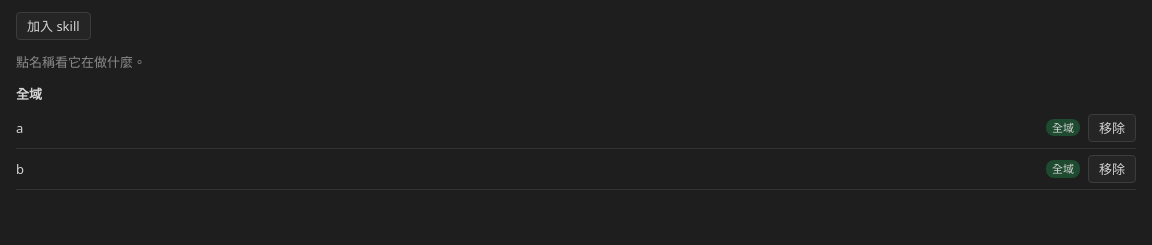
Test: SkillsView › opens only one description at a time
Click the button "a".
click(20, 128)  # box x1=16 y1=119 x2=1038 y2=137
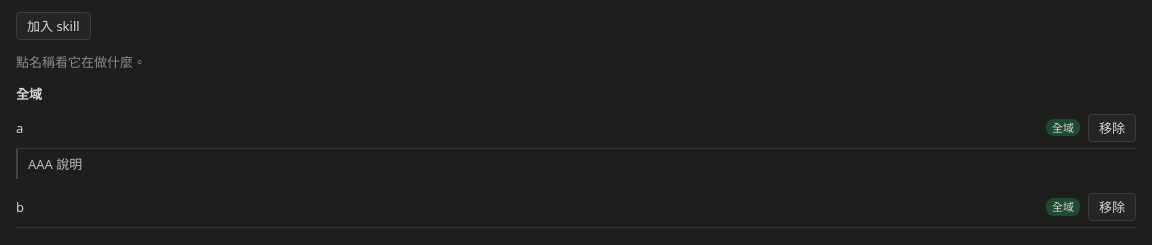
Result: the text "AAA 說明" is shown at x1=16 y1=149 x2=1136 y2=179
Click the button "b".
click(20, 207)  # box x1=16 y1=198 x2=1038 y2=216
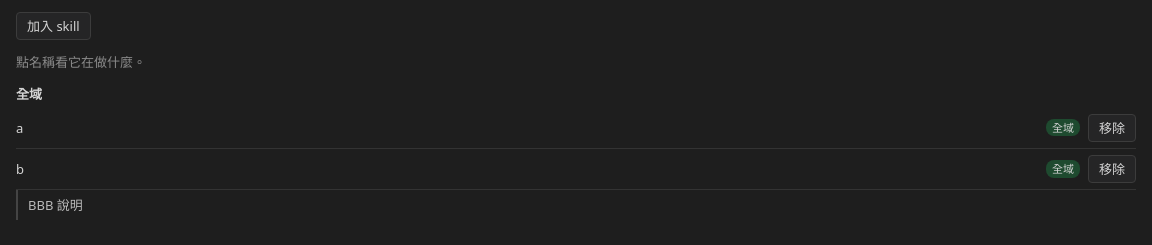
Result: the text "AAA 說明" is gone
Result: the text "BBB 說明" is shown at x1=16 y1=190 x2=1136 y2=220
